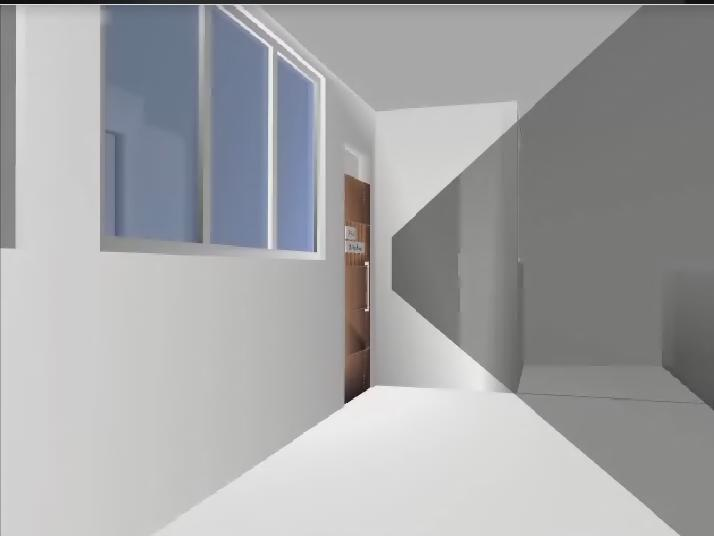door: (345, 174, 370, 404)
